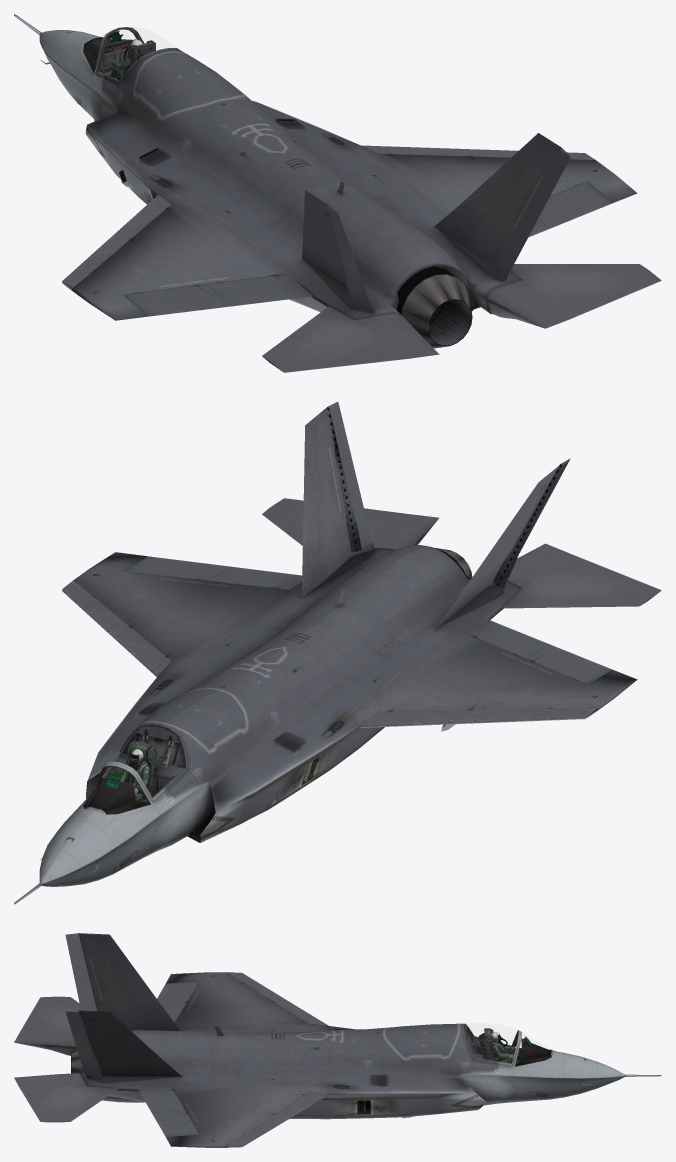
The picture shows the model from 3 angles, top to bottom: view 1: azimuth 30°, elevation 25°; view 2: azimuth 150°, elevation 25°; view 3: azimuth 270°, elevation 25°; orthographic projection. The views are drawn at different scales.
Parts seen in each view (by area): view 1: Object001, LOD0, ElevatorR01, ElevatorL01, EngineL01, AileronL01, RudderR01, FlapL01, VoletL01, AileronR01, RudderL01, VoletR01 (+1 smaller); view 2: Object001, LOD0, ElevatorL01, ElevatorR01, VoletL01, VoletR01, RudderR01, AileronL01, AileronR01, FlapL01, FlapR01, Canopy01 (+2 smaller); view 3: Object001, LOD0, ElevatorR01, ElevatorL01, VoletR01, RudderL01, RudderR01, AileronR01, FlapR01, VoletL01, AileronL01, Pilot01 (+2 smaller).
Part boxes in pixels (x1=…): Object001: x1=39, y1=29, x2=637, y2=320; LOD0: x1=14, y1=14, x2=560, y2=288; ElevatorR01: x1=486, y1=264, x2=661, y2=328; ElevatorL01: x1=262, y1=306, x2=439, y2=372; EngineL01: x1=397, y1=265, x2=472, y2=348; AileronL01: x1=123, y1=284, x2=230, y2=316; RudderR01: x1=492, y1=147, x2=570, y2=275; FlapL01: x1=207, y1=273, x2=312, y2=306; VoletL01: x1=62, y1=195, x2=171, y2=290; AileronR01: x1=538, y1=181, x2=612, y2=228; RudderL01: x1=326, y1=204, x2=371, y2=308; VoletR01: x1=361, y1=145, x2=595, y2=159; Object001: x1=39, y1=545, x2=637, y2=886; LOD0: x1=14, y1=407, x2=562, y2=904; ElevatorL01: x1=501, y1=543, x2=661, y2=608; ElevatorR01: x1=262, y1=498, x2=439, y2=549; VoletL01: x1=360, y1=707, x2=597, y2=727; VoletR01: x1=62, y1=580, x2=170, y2=676; RudderR01: x1=328, y1=402, x2=371, y2=552; AileronL01: x1=525, y1=644, x2=612, y2=684; AileronR01: x1=123, y1=556, x2=230, y2=580; FlapL01: x1=464, y1=619, x2=549, y2=658; FlapR01: x1=207, y1=566, x2=302, y2=589; Canopy01: x1=101, y1=722, x2=188, y2=802; Object001: x1=79, y1=972, x2=625, y2=1147; LOD0: x1=79, y1=933, x2=661, y2=1119; ElevatorR01: x1=14, y1=1073, x2=118, y2=1122; ElevatorL01: x1=14, y1=996, x2=80, y2=1055; VoletR01: x1=227, y1=1092, x2=330, y2=1147; RudderL01: x1=65, y1=933, x2=97, y2=1010; RudderR01: x1=65, y1=1010, x2=102, y2=1079; AileronR01: x1=152, y1=1110, x2=199, y2=1136; FlapR01: x1=138, y1=1086, x2=185, y2=1112; VoletL01: x1=228, y1=972, x2=328, y2=1025; AileronL01: x1=157, y1=981, x2=199, y2=1006; Pilot01: x1=490, y1=1032, x2=518, y2=1064.
Bounding box in the file's own units: 0.2613 × 0.0958 × 0.4112.
Materials: 5 (4 with a texture image).
